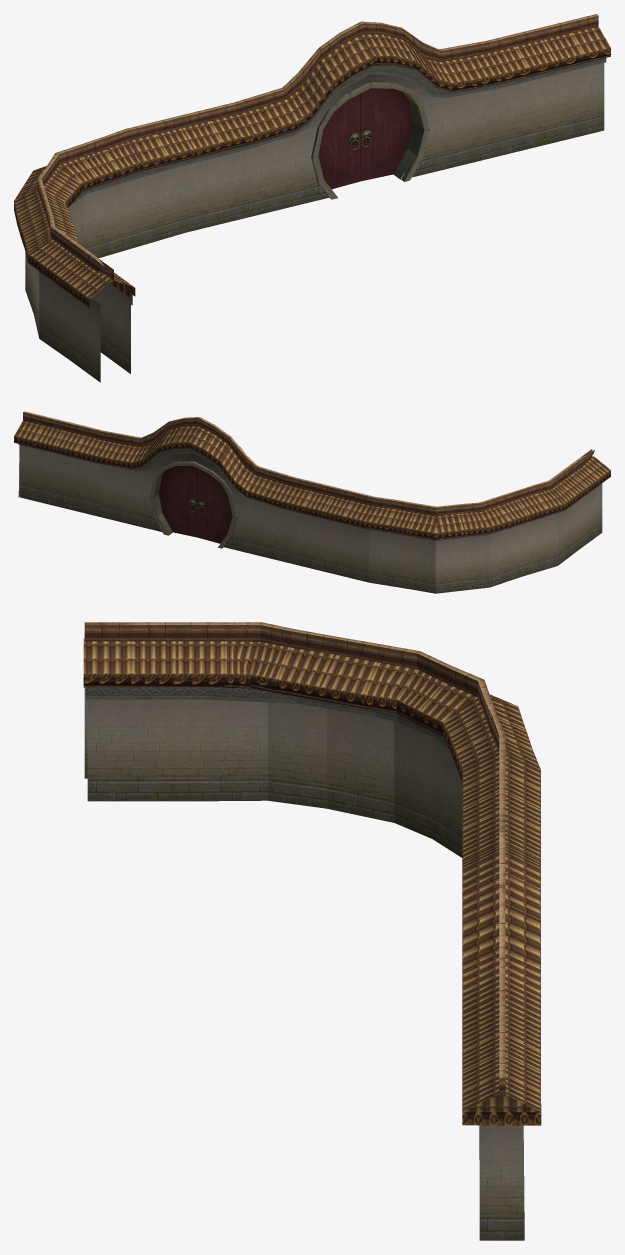
The model's file is SC001Jweiqiang_02.FBX.
3 renders of one model, top to bottom at view 1: azimuth 30°, elevation 25°; view 2: azimuth 150°, elevation 25°; view 3: azimuth 270°, elevation 25°, orthographic. The views are drawn at different scales.
Visible parts, largest first — view 1: SC001Jweiqiang_01; view 2: SC001Jweiqiang_01; view 3: SC001Jweiqiang_01.
Boxes of the visible parts, x1,y1,x2,y2 form: SC001Jweiqiang_01: (14,14,610,382); SC001Jweiqiang_01: (14,411,610,593); SC001Jweiqiang_01: (83,622,541,1240).
Size of the model in its own units: 14.4 by 3.41 by 5.91.
